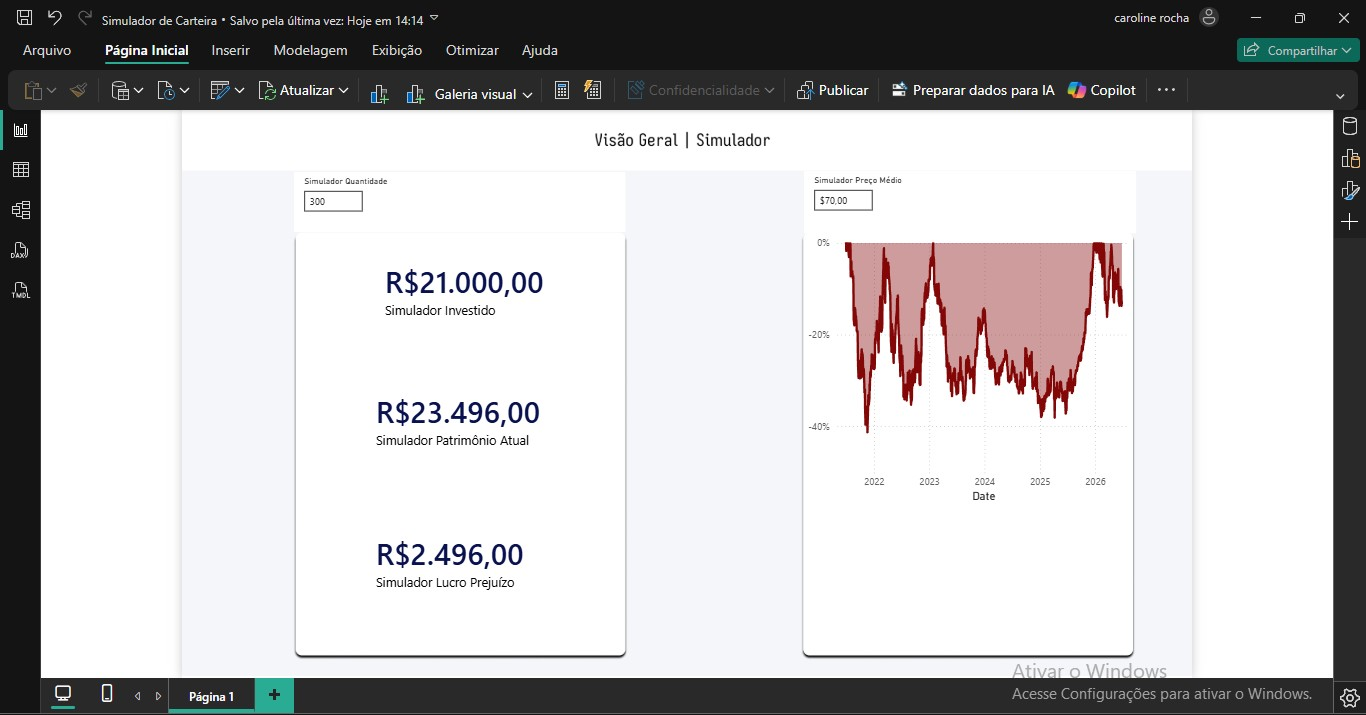

Layout of this report page (visuals, bound fields, positions):
{"tool":"powerbi","page":{"name":"Página 1","canvas":[1280,720],"ordinal":0},"visuals":[{"type":"areaChart","fields":{"Category":["Vale3.Date"],"Y":["Vale3.Drawdown %"]},"box":[788,154.5,420.9,347.2],"z":1000},{"type":"cardVisual","fields":{"Data":["Vale3.Simulador Investido"]},"box":[228.2,153.4,271.3,147],"z":2000},{"type":"cardVisual","fields":{"Data":["Vale3.Simulador Patrimônio Atual"]},"box":[216.8,328.3,303,128],"z":3000},{"type":"cardVisual","fields":{"Data":["Vale3.Simulador Lucro Prejuízo"]},"box":[216.8,502,303,142],"z":4000},{"type":"slicer","fields":{"Values":["Simulador Preço Médio.Simulador Preço Médio"]},"box":[788,78,420.9,79.4],"z":4500},{"type":"slicer","fields":{"Values":["Simulador Quantidade.Simulador Quantidade"]},"box":[141.6,78.7,420.5,75.8],"z":5000}]}

Visuals, with their boxes on the page's 1280x720 design canvas (x1, y1, x2, y2). These are canvas units, not pixel positions in the 1366x715 screenshot, which may show the page scaled, cropped or inside an application window:
areaChart - Vale3.Date x Vale3.Drawdown %: x1=788, y1=154, x2=1209, y2=502
cardVisual - Vale3.Simulador Investido: x1=228, y1=153, x2=500, y2=300
cardVisual - Vale3.Simulador Patrimônio Atual: x1=217, y1=328, x2=520, y2=456
cardVisual - Vale3.Simulador Lucro Prejuízo: x1=217, y1=502, x2=520, y2=644
slicer - Simulador Preço Médio.Simulador Preço Médio: x1=788, y1=78, x2=1209, y2=157
slicer - Simulador Quantidade.Simulador Quantidade: x1=142, y1=79, x2=562, y2=154
